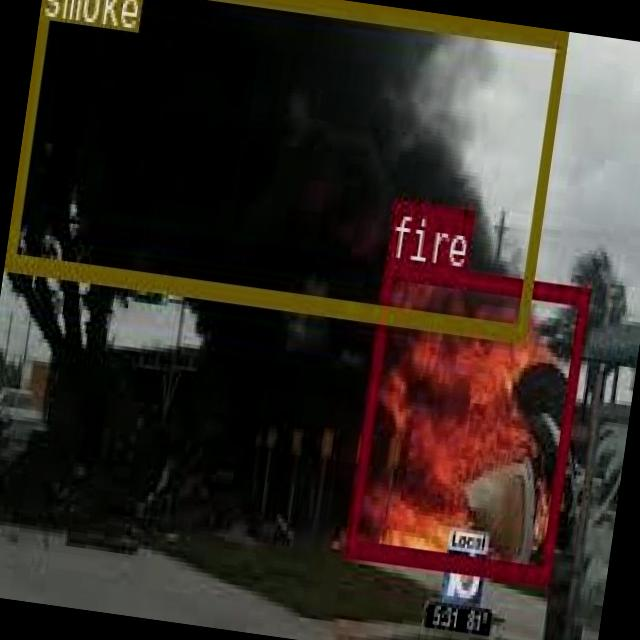fire: (344, 256, 588, 580)
smoke: (4, 0, 567, 337)
